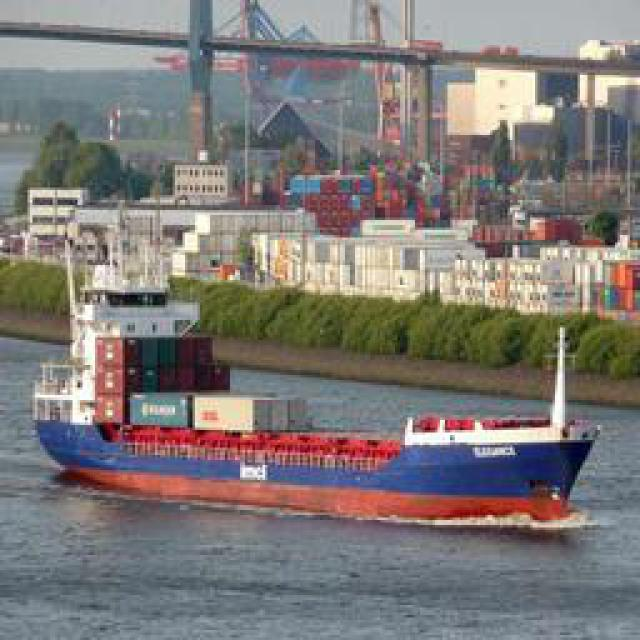Ship: (39, 397, 602, 530)
